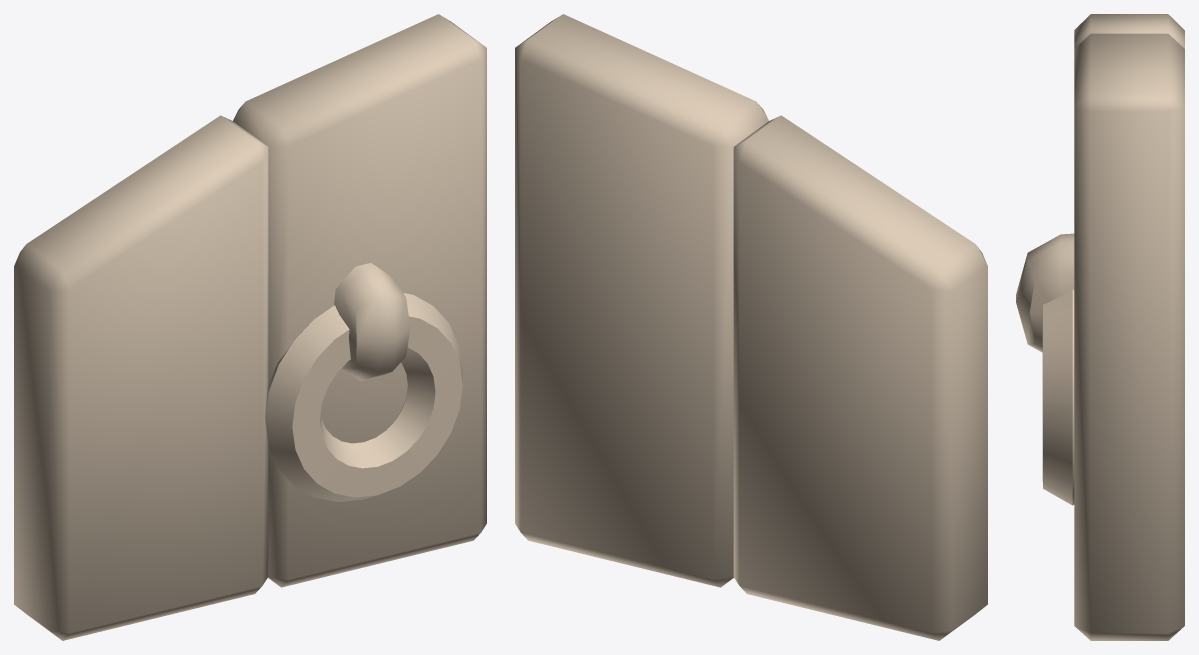
The model's file is gate_double_left.glb.
3 renders of one model, left to right at view 1: azimuth 30°, elevation 25°; view 2: azimuth 150°, elevation 25°; view 3: azimuth 270°, elevation 25°, orthographic. The views are drawn at different scales.
Visible parts, largest first — view 1: gate_double_left; view 2: gate_double_left; view 3: gate_double_left.
Boxes of the visible parts, <box> form: gate_double_left: <box>14,14,486,640</box>; gate_double_left: <box>515,14,987,640</box>; gate_double_left: <box>1016,14,1184,640</box>.
Size of the model in its own units: 1 by 1.09 by 0.3051.
